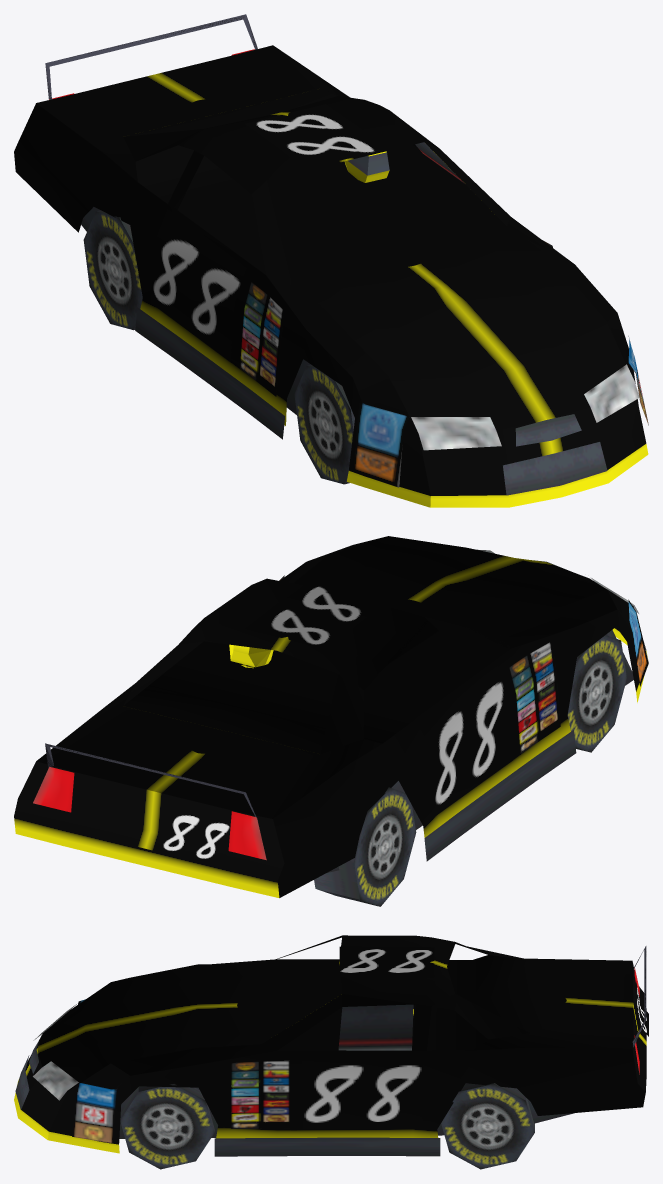
Rendered from icon.ico.obj.
The picture shows the model from 3 angles, top to bottom: view 1: azimuth 30°, elevation 25°; view 2: azimuth 150°, elevation 25°; view 3: azimuth 270°, elevation 25°; orthographic projection. The views are drawn at different scales.
Size of the model in its own units: 1.27 by 0.8518 by 3.12.
Materials: 1 (1 with a texture image).
